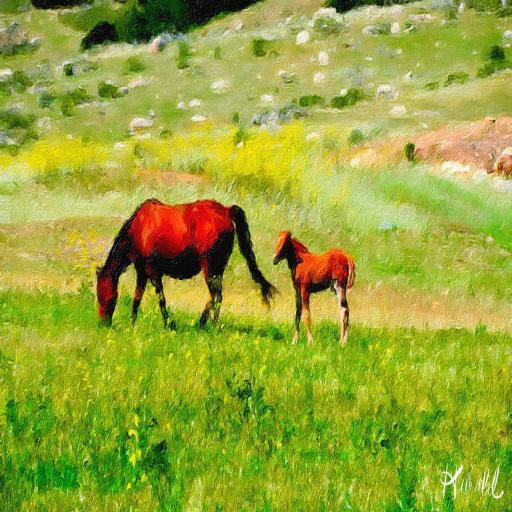horse: (92, 196, 278, 330), (270, 228, 357, 343)
